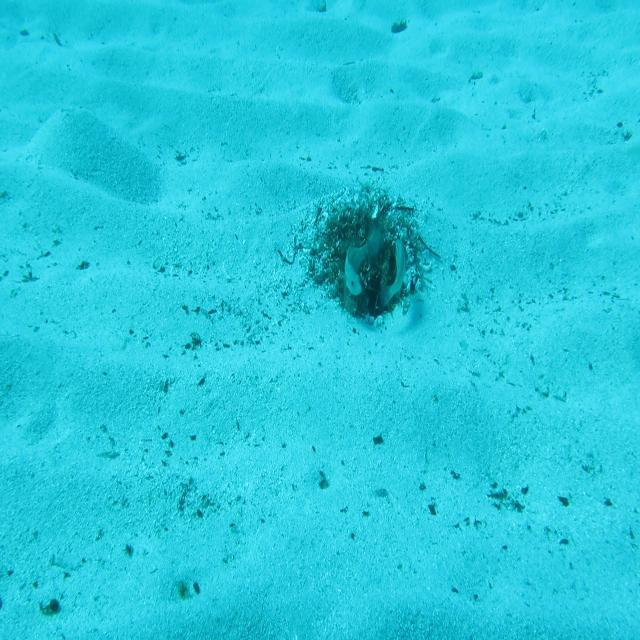DAN_CIRC: (343, 235, 376, 297)
female: (378, 238, 406, 309)
nest: (314, 188, 426, 324)
